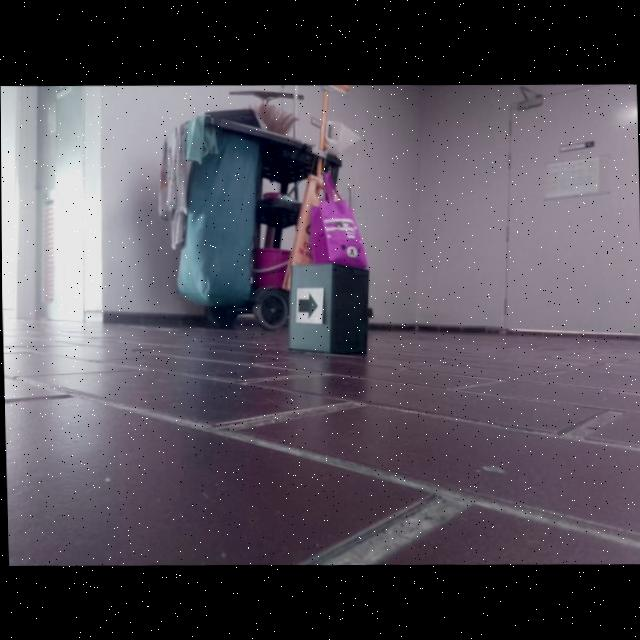RIGHT: (297, 290, 318, 318)
